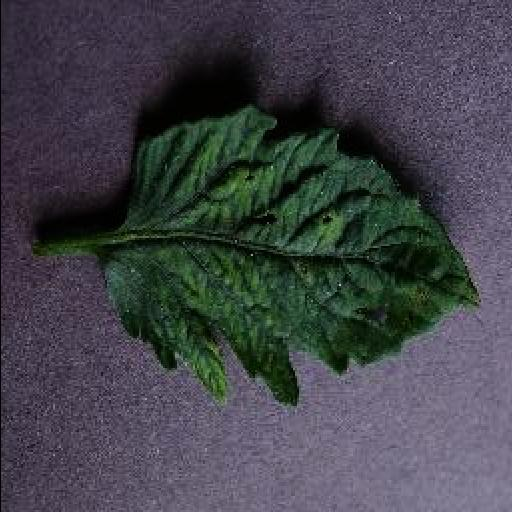Mosaic Virus: (96, 98, 482, 410)
